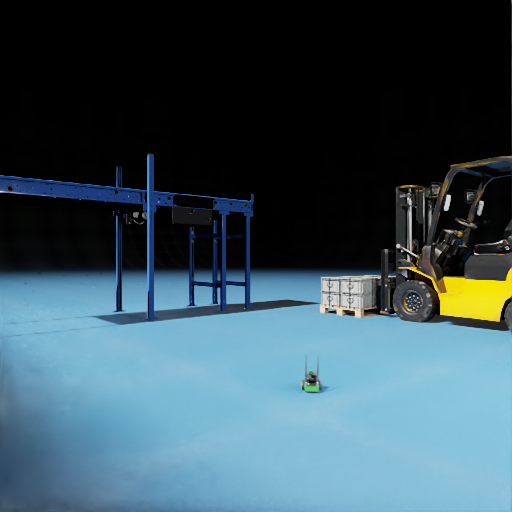jetbot: (305, 355, 306, 385)
transportation_area: (350, 292, 380, 308), (340, 293, 348, 306)
